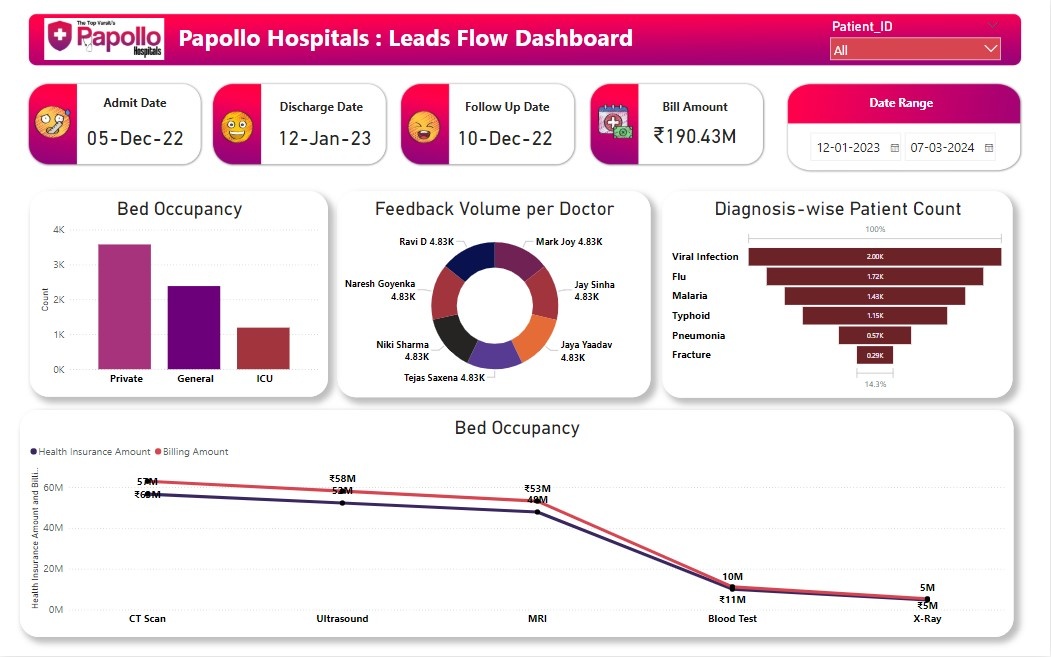

The page's visual inventory and layout, read from the dashboard file:
{"tool":"powerbi","page":{"name":"Dashboard","canvas":[1680,1050],"ordinal":0},"visuals":[{"type":"textbox","box":[280,27.1,755.7,74.3],"z":0},{"type":"image","box":[2636.7,100,623.3,150],"z":1000},{"type":"slicer","fields":{"Values":["Sheet1.Patient_ID"]},"box":[2400,373.3,793.3,420],"z":2000},{"type":"card","fields":{"Values":["Min(Sheet1.Admit_Date)"]},"box":[437.6,198.8,162.9,42.8],"z":3000},{"type":"card","fields":{"Values":["Min(Sheet1.Discharge_Date)"]},"box":[129.8,198.8,172.6,42.8],"z":4000},{"type":"card","fields":{"Values":["Min(Sheet1.Followup Date)"]},"box":[724.3,198.6,167.1,42.9],"z":5000},{"type":"textbox","box":[152.9,145.7,127.1,57.1],"z":6000},{"type":"textbox","box":[437.1,151.4,151.4,37.1],"z":7000},{"type":"textbox","box":[732.9,151.4,158.6,37.1],"z":8000},{"type":"textbox","box":[1035.7,151.4,151.4,37.1],"z":9000},{"type":"card","fields":{"Values":["Sum(Sheet1.Billing Amount)"]},"box":[1031.4,194.3,158.6,42.9],"z":10000},{"type":"image","box":[50,157.1,68.6,74.3],"z":11000},{"type":"image","box":[348.6,172.9,62.9,62.9],"z":12000},{"type":"image","box":[640,171.4,77.1,62.9],"z":13000},{"type":"image","box":[951.4,158.6,65.7,71.4],"z":14000},{"type":"columnChart","title":"Bed Occupancy","fields":{"Category":["Sheet1.Bed_Occupancy"],"Y":["CountNonNull(Sheet1.Bed_Occupancy)"]},"box":[47.1,305.7,477.1,328.6],"z":15000},{"type":"donutChart","title":"Feedback Volume per Doctor","fields":{"Category":["Sheet1.Doctor"],"Y":["Sum(Sheet1.Feedback)"]},"box":[540.2,305.2,501,329.5],"z":16000},{"type":"funnel","title":"Diagnosis-wise Patient Count","fields":{"Category":["Sheet1.Diagnosis"],"Y":["CountNonNull(Sheet1.Diagnosis)"]},"box":[1060,305.7,560,330],"z":17000},{"type":"image","box":[30,24.3,274.3,77.1],"z":18000},{"type":"lineChart","title":"Bed Occupancy","fields":{"Y":["Sum(Sheet1.Health Insurance Amount)","Sum(Sheet1.Billing Amount)"],"Category":["Sheet1.Test"]},"box":[31.1,656.3,1589.5,363.3],"z":19000},{"type":"slicer","fields":{"Values":["Sheet1.Admit_Date"]},"box":[1284.3,201.2,360.6,68.9],"z":20000},{"type":"slicer","fields":{"Values":["Sheet1.Patient_ID"]},"box":[1317.1,24.3,292.9,82.9],"z":21000},{"type":"textbox","box":[1365.7,145.7,151.4,37.1],"z":22000}]}

Visuals, with their boxes in screenshot pixels (x1, y1, x2, y2), scaled from the page's 1680x1050 canvas onto the 1051x657 screenshot:
textbox: l=175, t=17, r=648, b=63
card - Min(Sheet1.Admit_Date): l=274, t=124, r=376, b=151
card - Min(Sheet1.Discharge_Date): l=81, t=124, r=189, b=151
card - Min(Sheet1.Followup Date): l=453, t=124, r=558, b=151
textbox: l=96, t=91, r=175, b=127
textbox: l=273, t=95, r=368, b=118
textbox: l=458, t=95, r=558, b=118
textbox: l=648, t=95, r=743, b=118
card - Sum(Sheet1.Billing Amount): l=645, t=122, r=744, b=148
image: l=31, t=98, r=74, b=145
image: l=218, t=108, r=257, b=148
image: l=400, t=107, r=449, b=147
image: l=595, t=99, r=636, b=144
"Bed Occupancy" columnChart: l=29, t=191, r=328, b=397
"Feedback Volume per Doctor" donutChart: l=338, t=191, r=651, b=397
"Diagnosis-wise Patient Count" funnel: l=663, t=191, r=1013, b=398
image: l=19, t=15, r=190, b=63
"Bed Occupancy" lineChart: l=19, t=411, r=1014, b=638
slicer - Sheet1.Admit_Date: l=803, t=126, r=1029, b=169
slicer - Sheet1.Patient_ID: l=824, t=15, r=1007, b=67
textbox: l=854, t=91, r=949, b=114
